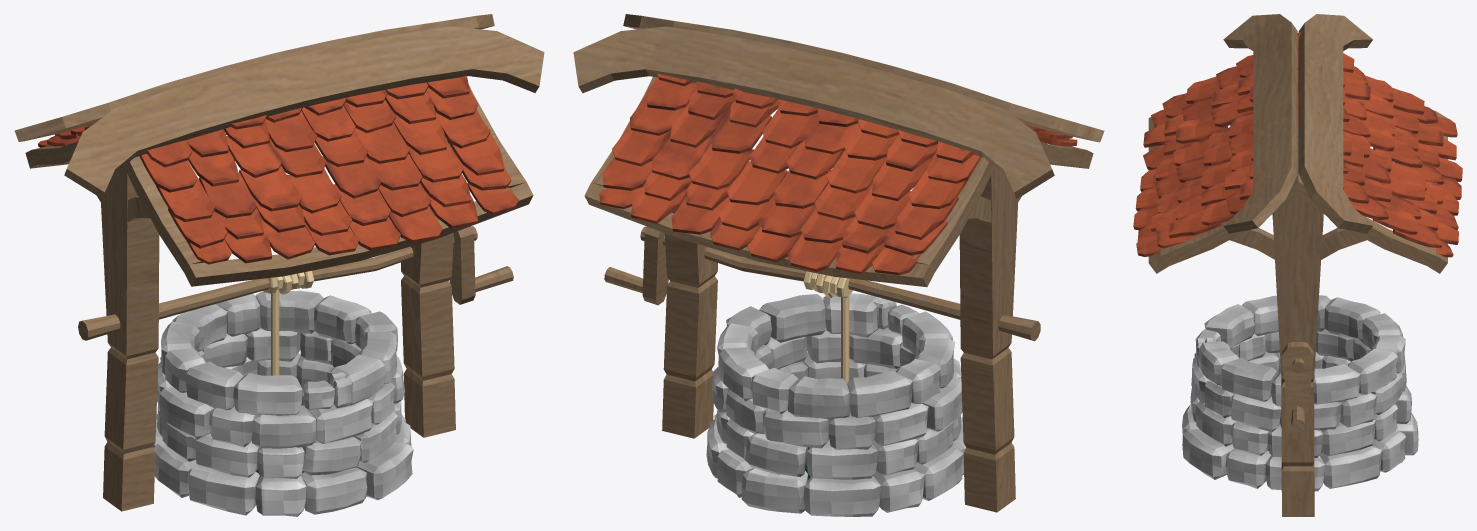
The model's file is well.fbx.
3 renders of one model, left to right at view 1: azimuth 30°, elevation 25°; view 2: azimuth 150°, elevation 25°; view 3: azimuth 270°, elevation 25°, orthographic. The views are drawn at different scales.
Parts seen in each view (by area): view 1: water.002; view 2: water.002; view 3: water.002.
Boxes of the visible parts, left/top/right/bottom form: water.002: left=14, top=14, right=544, bottom=516; water.002: left=573, top=14, right=1104, bottom=516; water.002: left=1133, top=14, right=1462, bottom=516.
Size of the model in its own units: 1693 by 1383 by 1150.
